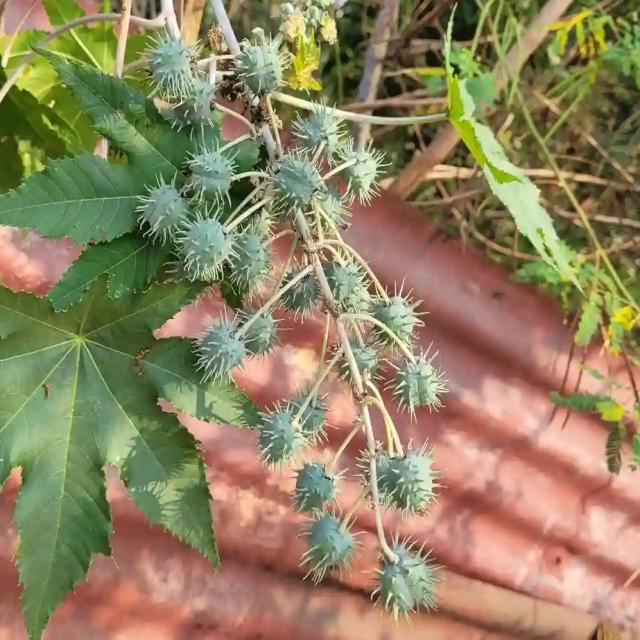Castor Oil Plant: (83, 6, 466, 542), (0, 310, 229, 612), (18, 96, 232, 310)
